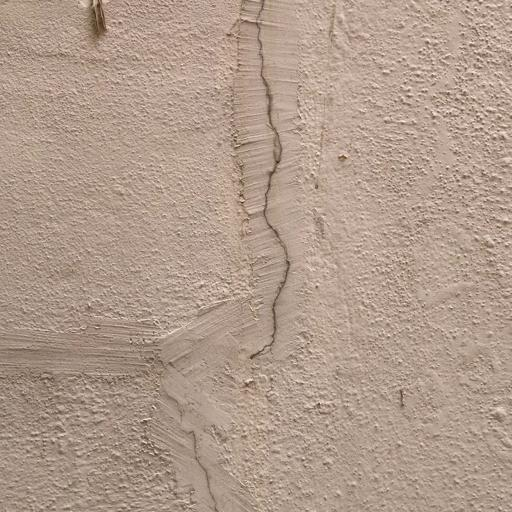minor_crack: (218, 0, 314, 373)
